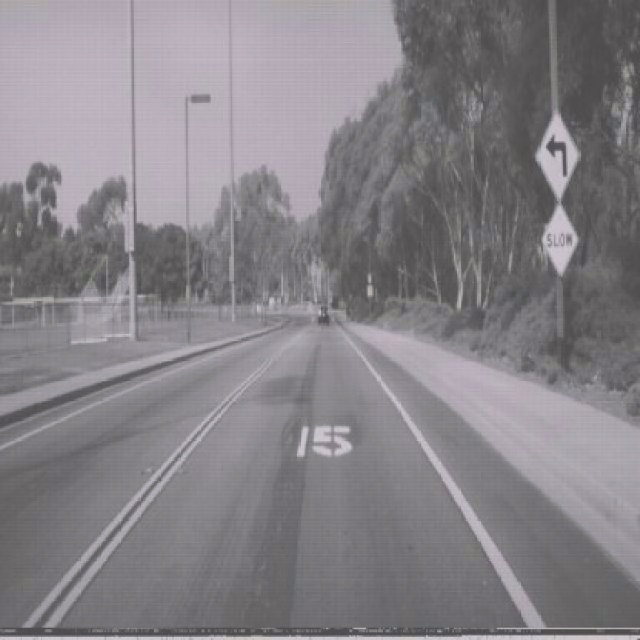slow: (542, 202, 580, 278)
turnLeft: (535, 108, 580, 200)
